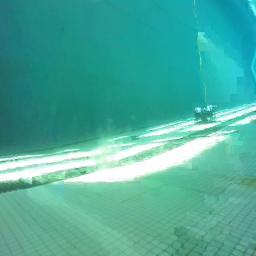front: (192, 105, 218, 124)
